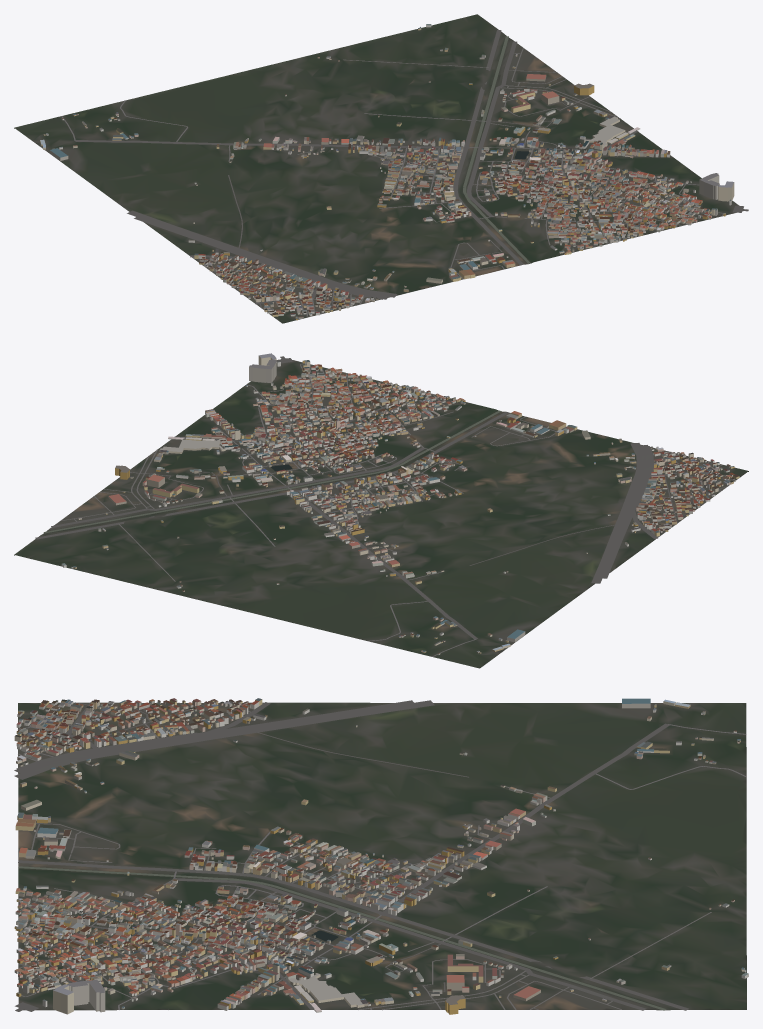
3 renders of one model, top to bottom at view 1: azimuth 30°, elevation 25°; view 2: azimuth 150°, elevation 25°; view 3: azimuth 270°, elevation 25°, orthographic. The views are drawn at different scales.
Visible parts, largest first — view 1: ground, buildings, roads, water; view 2: ground, buildings, roads, water; view 3: ground, buildings, roads, water.
Part boxes in pixels (left/top/right/bottom): ground: left=14, top=14, right=743, bottom=323; buildings: left=40, top=24, right=734, bottom=320; roads: left=61, top=30, right=748, bottom=316; water: left=463, top=36, right=530, bottom=263; ground: left=14, top=358, right=748, bottom=668; buildings: left=61, top=353, right=739, bottom=654; roads: left=35, top=356, right=727, bottom=656; water: left=43, top=410, right=501, bottom=533; ground: left=18, top=702, right=746, bottom=1010; buildings: left=14, top=698, right=748, bottom=1014; roads: left=14, top=700, right=746, bottom=1011; water: left=18, top=866, right=666, bottom=1010.
Size of the model in its own units: 1432 by 44.54 by 1415.
